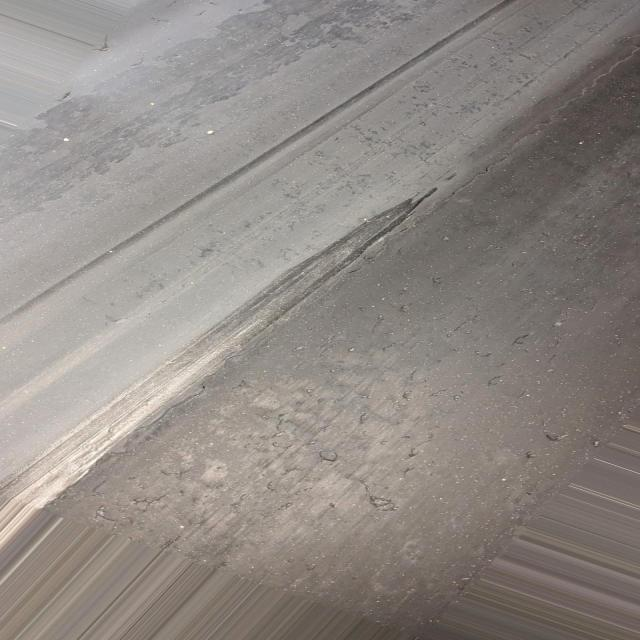Wear: (0, 183, 442, 514)
